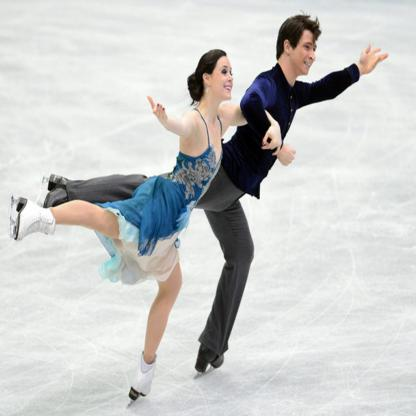face: (294, 29, 317, 76), (213, 57, 234, 102)
